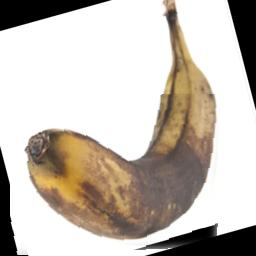Banana Rotten: (10, 94, 227, 256)
